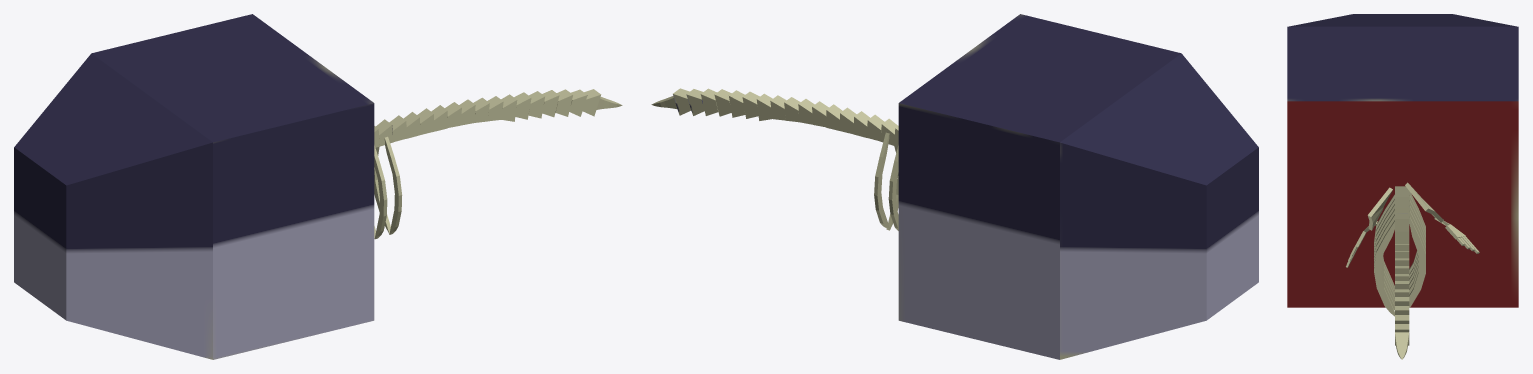
The model's file is 2DamagedWhale.obj.
The picture shows the model from 3 angles, left to right: view 1: azimuth 30°, elevation 25°; view 2: azimuth 150°, elevation 25°; view 3: azimuth 270°, elevation 25°; orthographic projection. The views are drawn at different scales.
Visible parts, largest first — view 1: 立方体.011; view 2: 立方体.011; view 3: 立方体.011.
Part boxes in pixels (x1,y1,x2,y2): 立方体.011: (14,14,622,359); 立方体.011: (651,14,1258,359); 立方体.011: (1287,14,1518,359).
Bounding box in the file's own units: 8.45 × 3.02 × 3.06.
